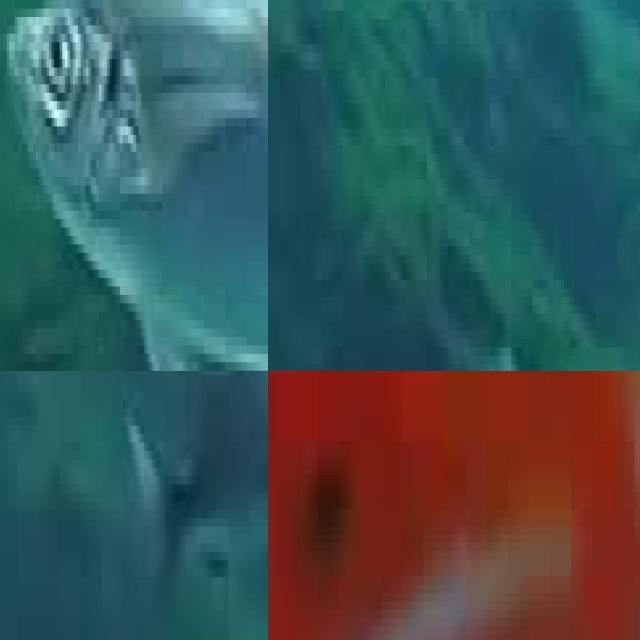fish: (268, 371, 640, 640), (0, 0, 268, 371)
